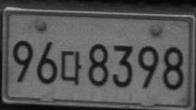3: (111, 44, 133, 87)
6: (35, 41, 58, 84)
8: (162, 45, 184, 90), (87, 43, 109, 87)
9: (11, 39, 34, 82), (137, 45, 159, 89)
다: (60, 50, 82, 85)
